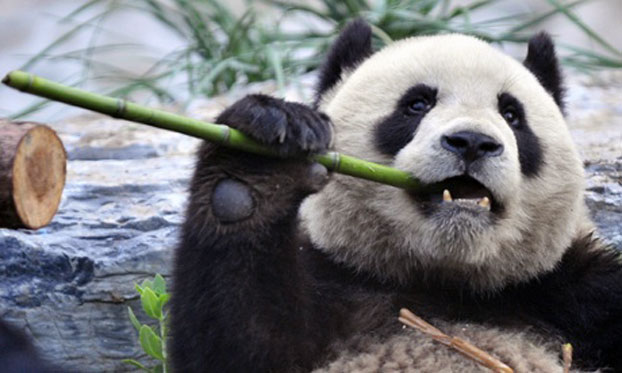panda: (164, 16, 622, 372)
